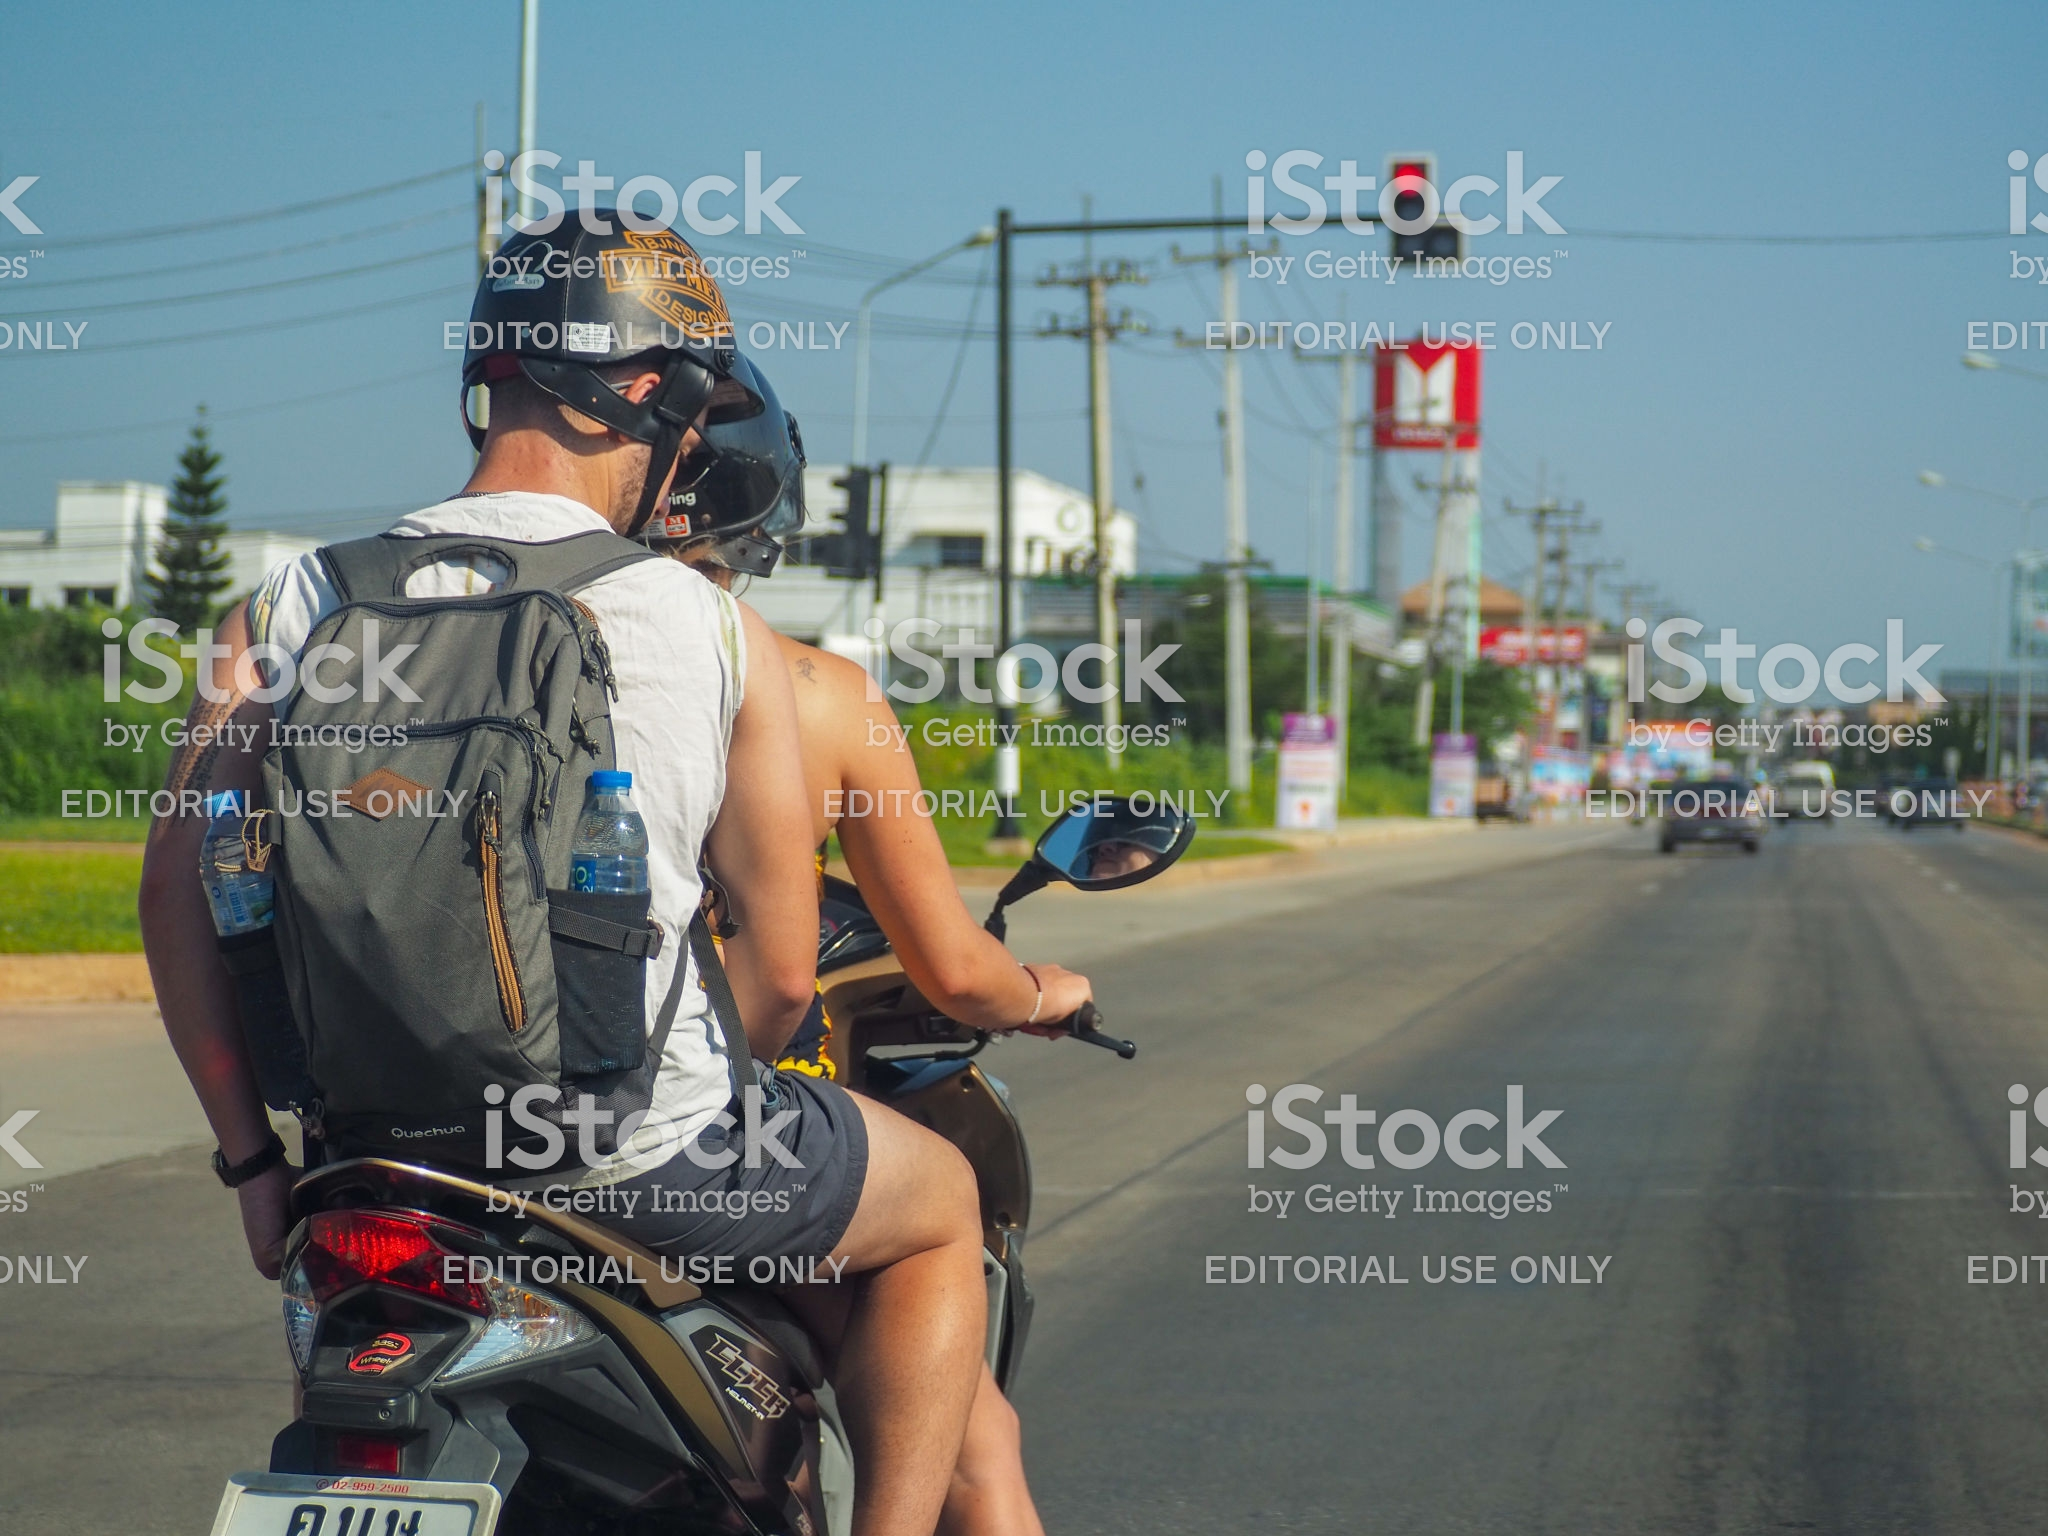helmet: (410, 152, 784, 378)
